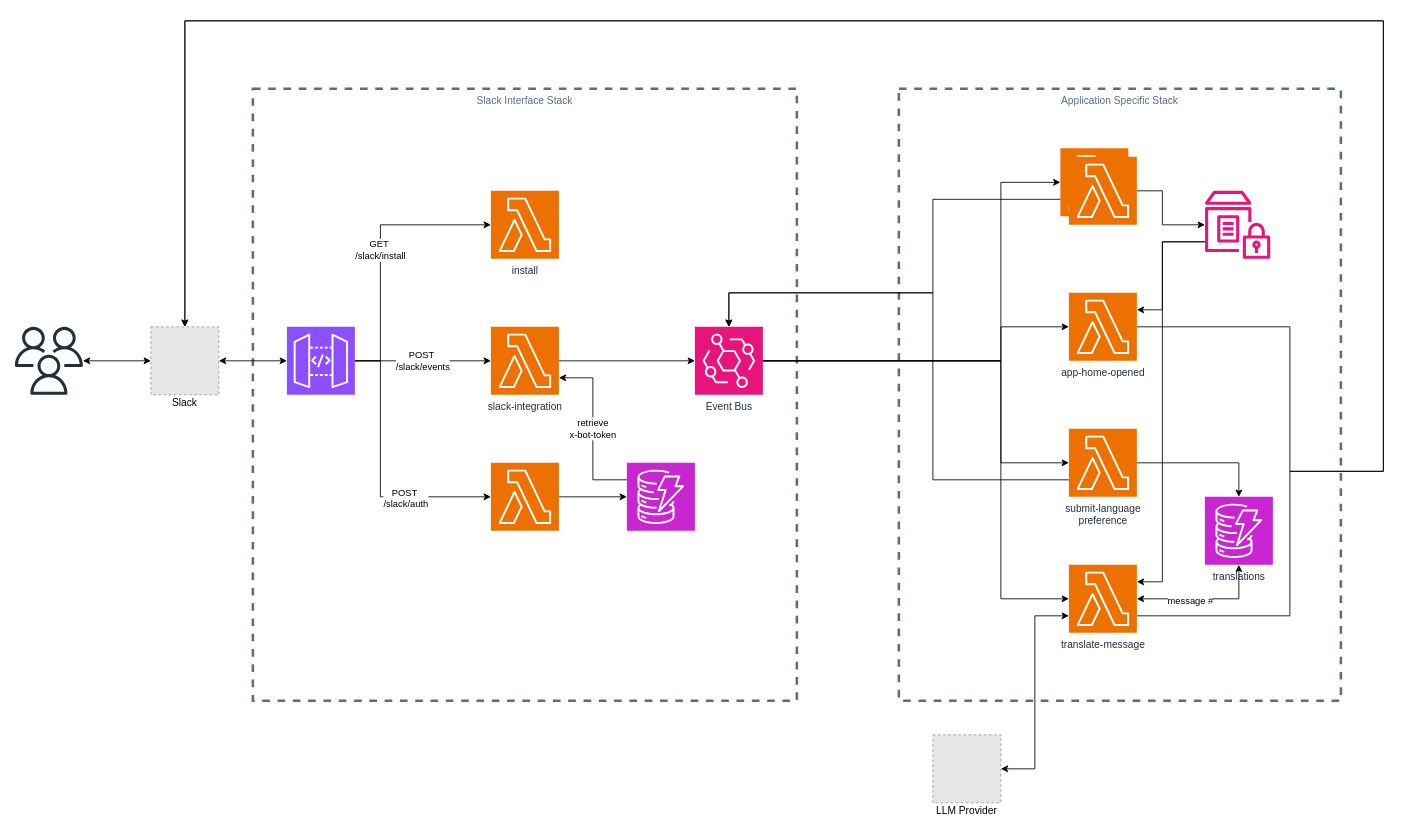
The diagram is 1405 pixels wide and 832 high, and some of its shapes have lost their labels. Grey dashed boxes stand in for pictures. Here are the shapes that lost their labels. From the top down, the box of each, then its label:
(1068, 156, 1137, 225): submit/remove-api-keys
(1204, 190, 1270, 258): parameter store
(14, 326, 82, 394): Users
(490, 462, 559, 531): auth-callback
(626, 462, 695, 531): workspace installations
